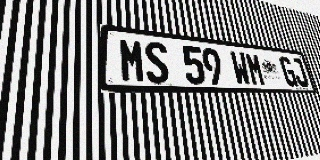5: (182, 45, 207, 84)
9: (201, 47, 225, 85)
G: (278, 56, 299, 87)
J: (290, 57, 310, 87)
M: (119, 38, 146, 83), (244, 52, 266, 86)
S: (144, 41, 170, 84)
W: (229, 50, 252, 85)
